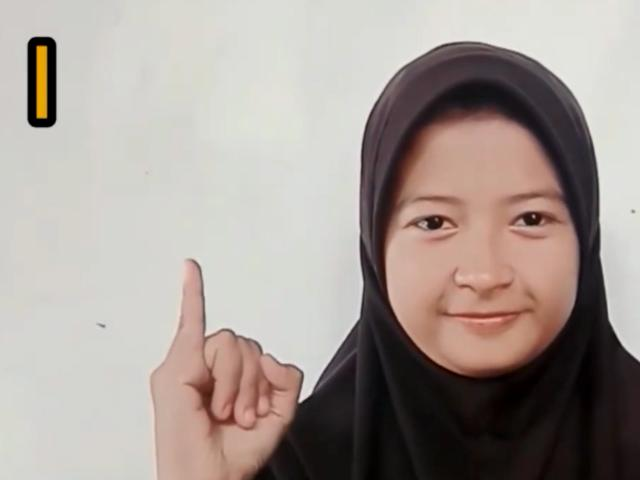I: (146, 254, 310, 480)
